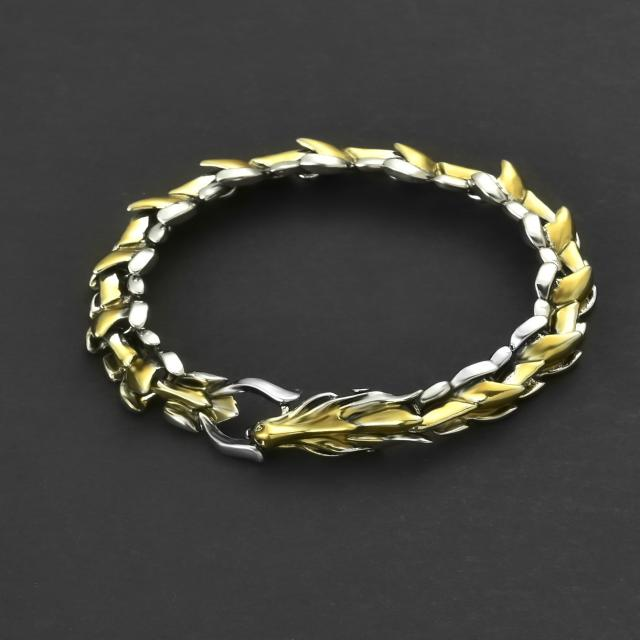bracelet: (0, 77, 640, 542)
